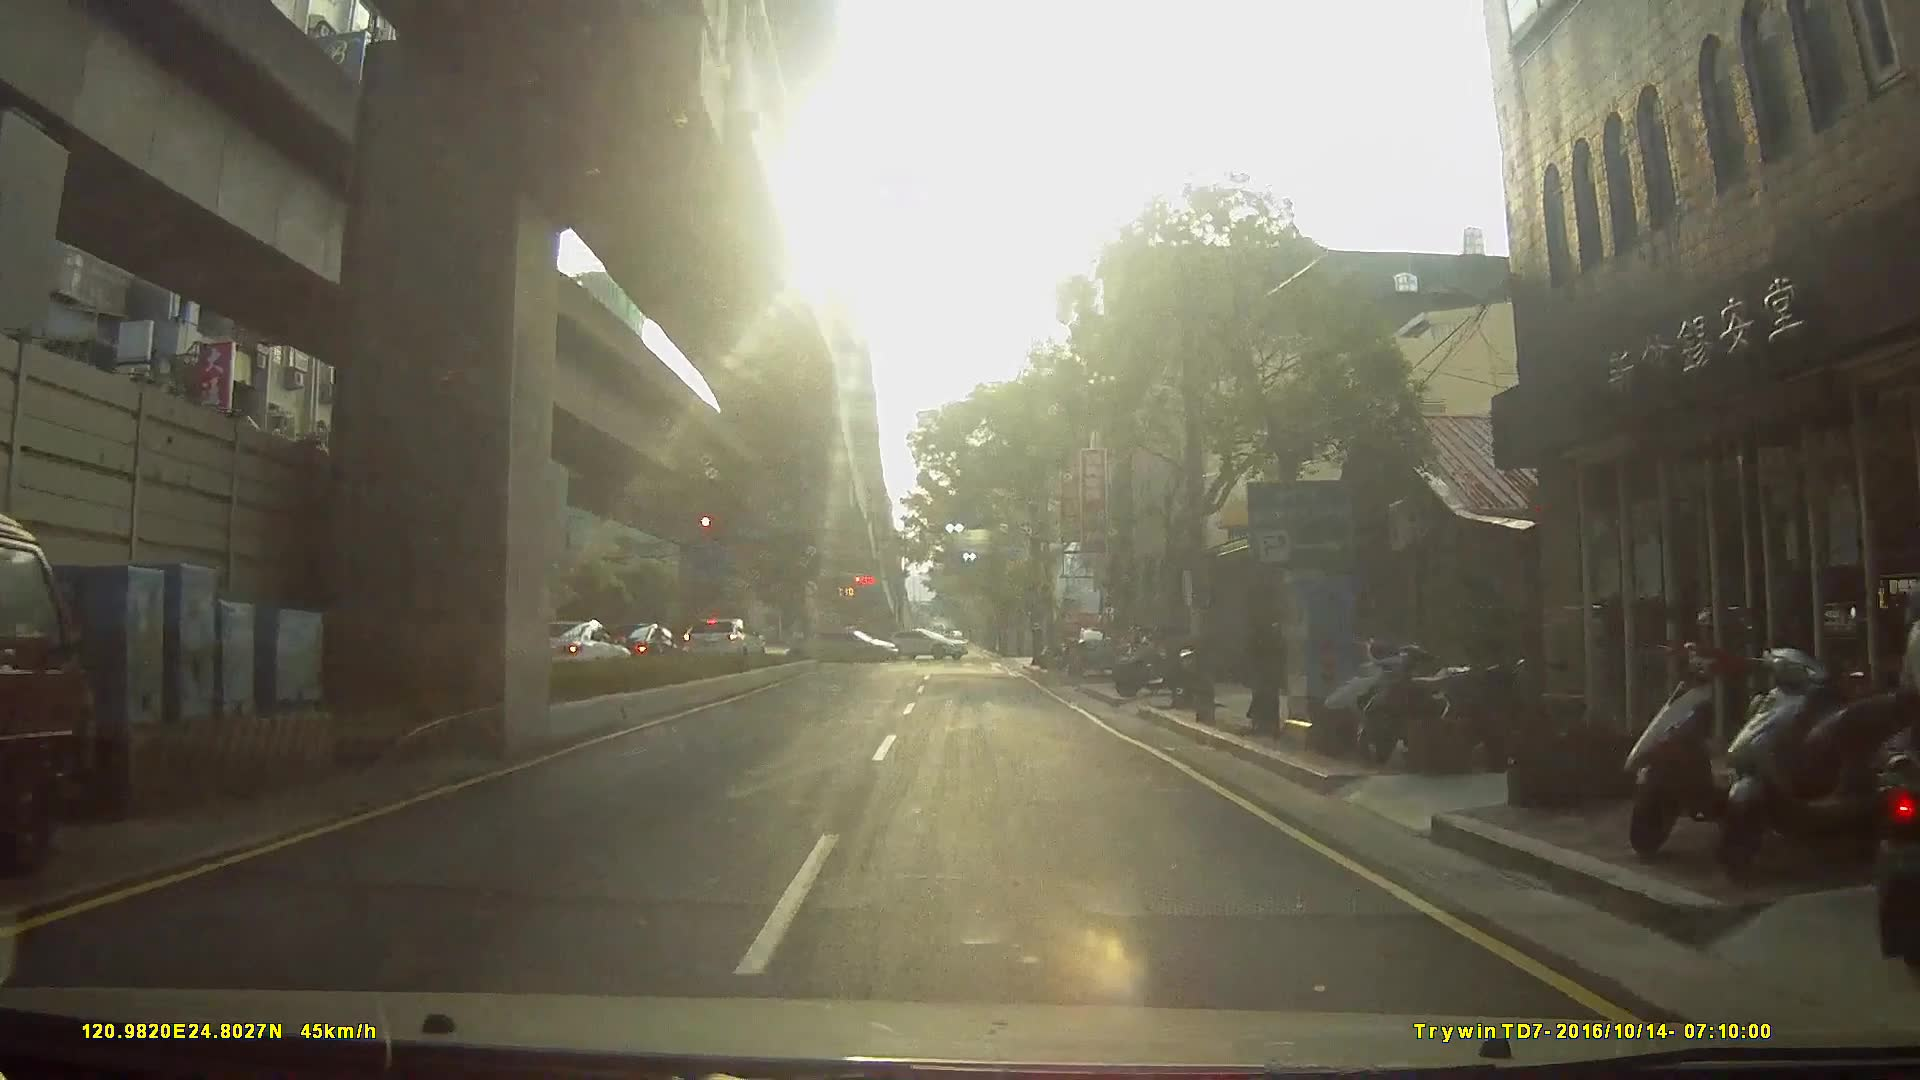vehicle: (510, 618, 626, 683), (593, 621, 687, 673), (676, 616, 765, 665), (800, 626, 901, 665), (1065, 622, 1124, 675), (884, 626, 971, 659)
